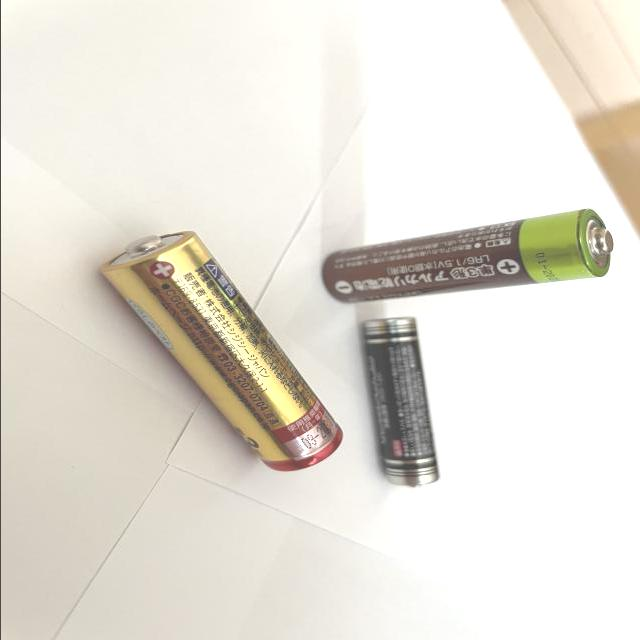AA: (96, 230, 342, 472), (320, 208, 612, 304)
AAA: (361, 316, 440, 488)
